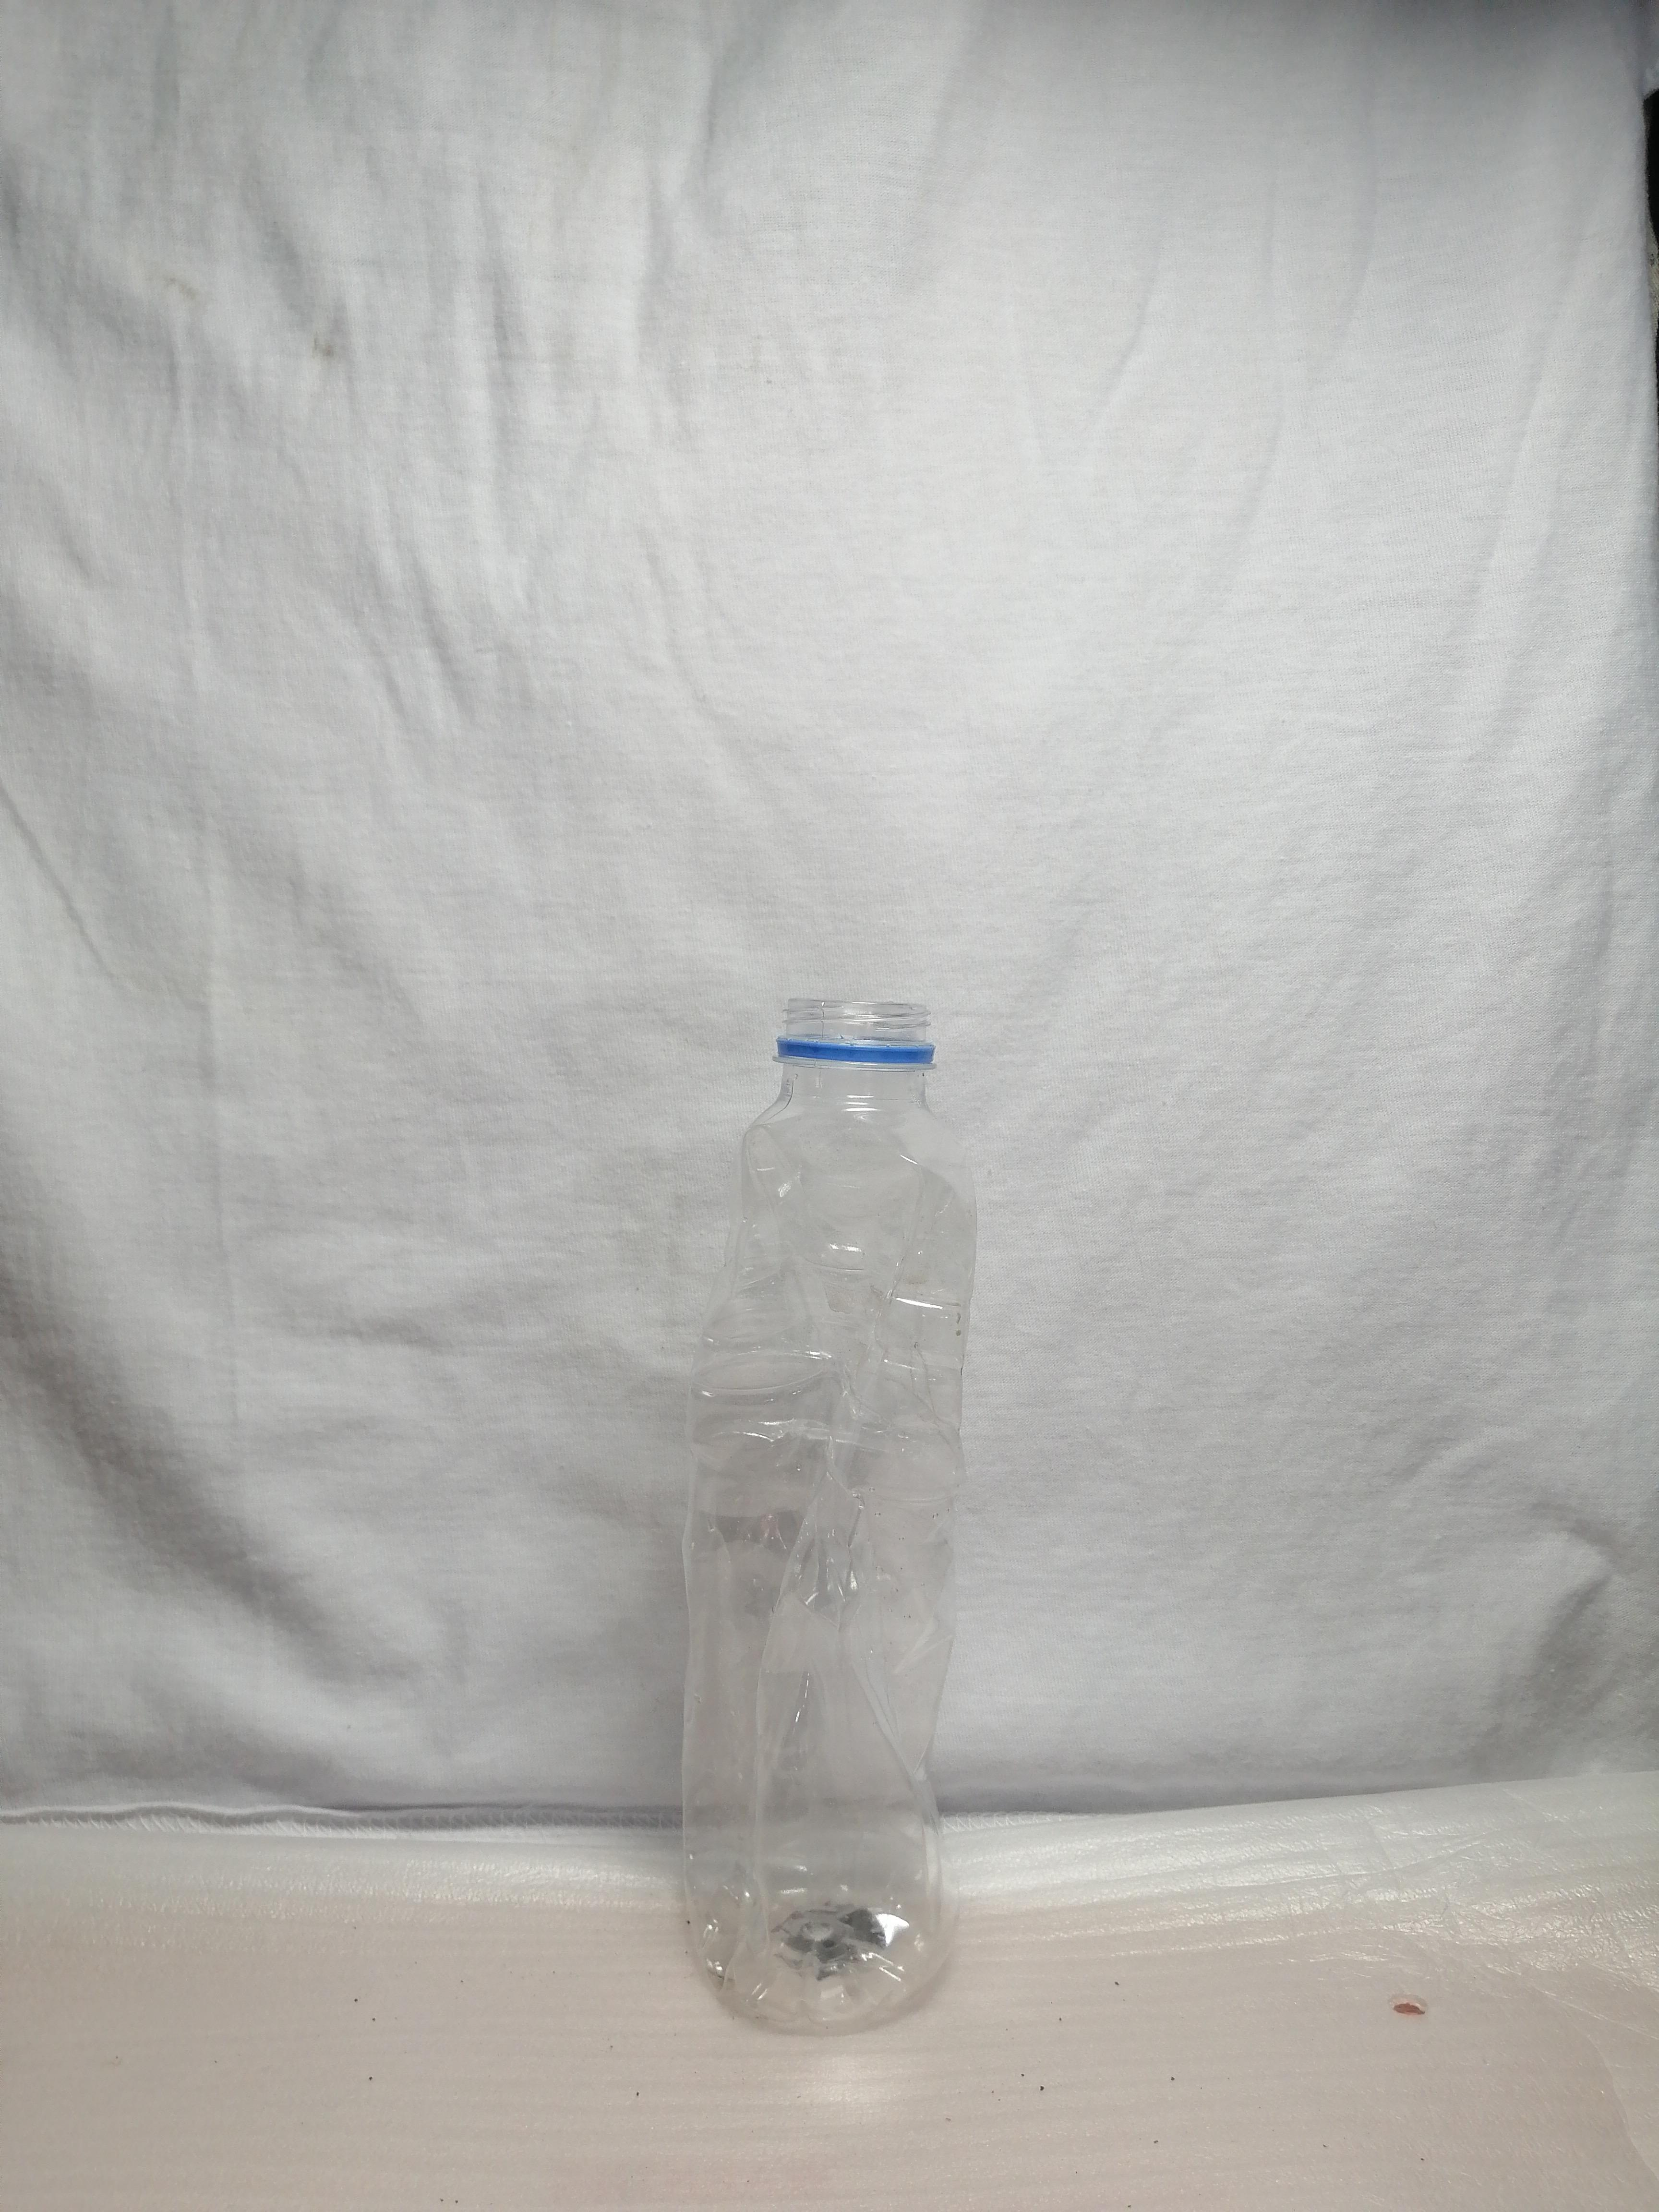plastic-bottle: (648, 936, 1085, 2098)
